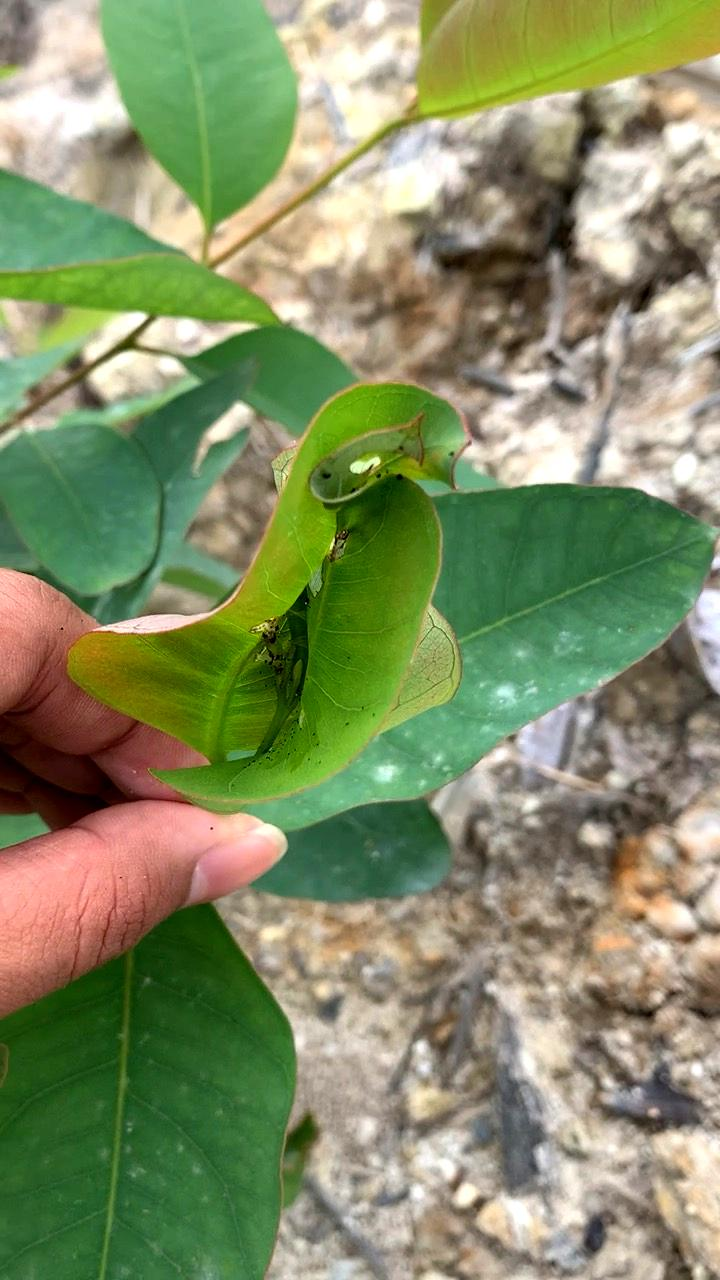Leaf Roller - Leaf: (59, 363, 513, 848)
